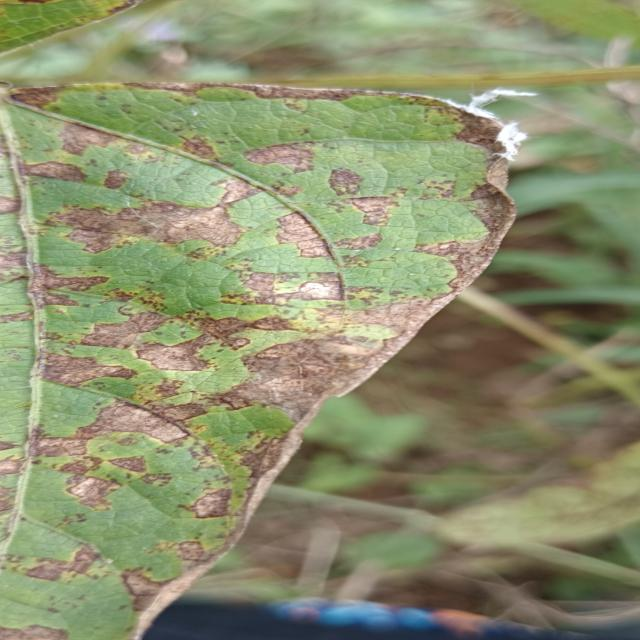Black gram_leaf spot: (0, 74, 542, 640)
